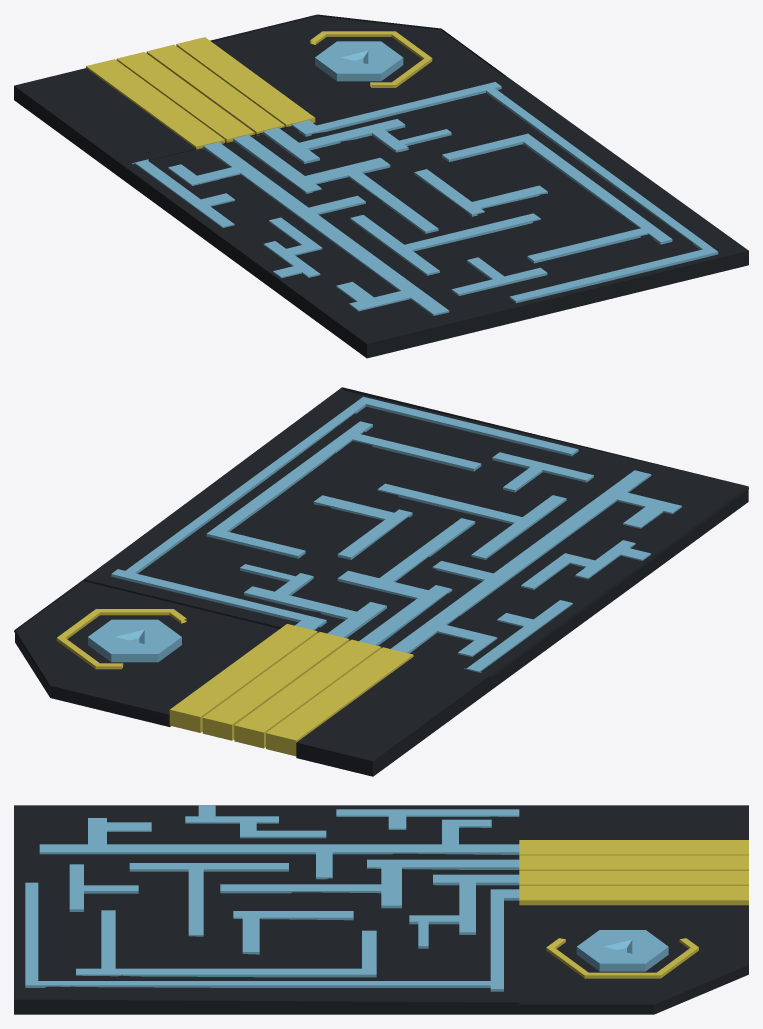
Rendered from Chip.fbx.
3 views of the same model, one above another, from view 1: azimuth 30°, elevation 25°; view 2: azimuth 150°, elevation 25°; view 3: azimuth 270°, elevation 25° (orthographic). The views are drawn at different scales.
Parts seen in each view (by area): view 1: Plane; view 2: Plane; view 3: Plane.
Part boxes in pixels (<box>): Plane: <box>14,14,748,358</box>; Plane: <box>14,387,748,776</box>; Plane: <box>14,805,748,1014</box>.
Bounding box in the file's own units: 205 × 10.73 × 327.
